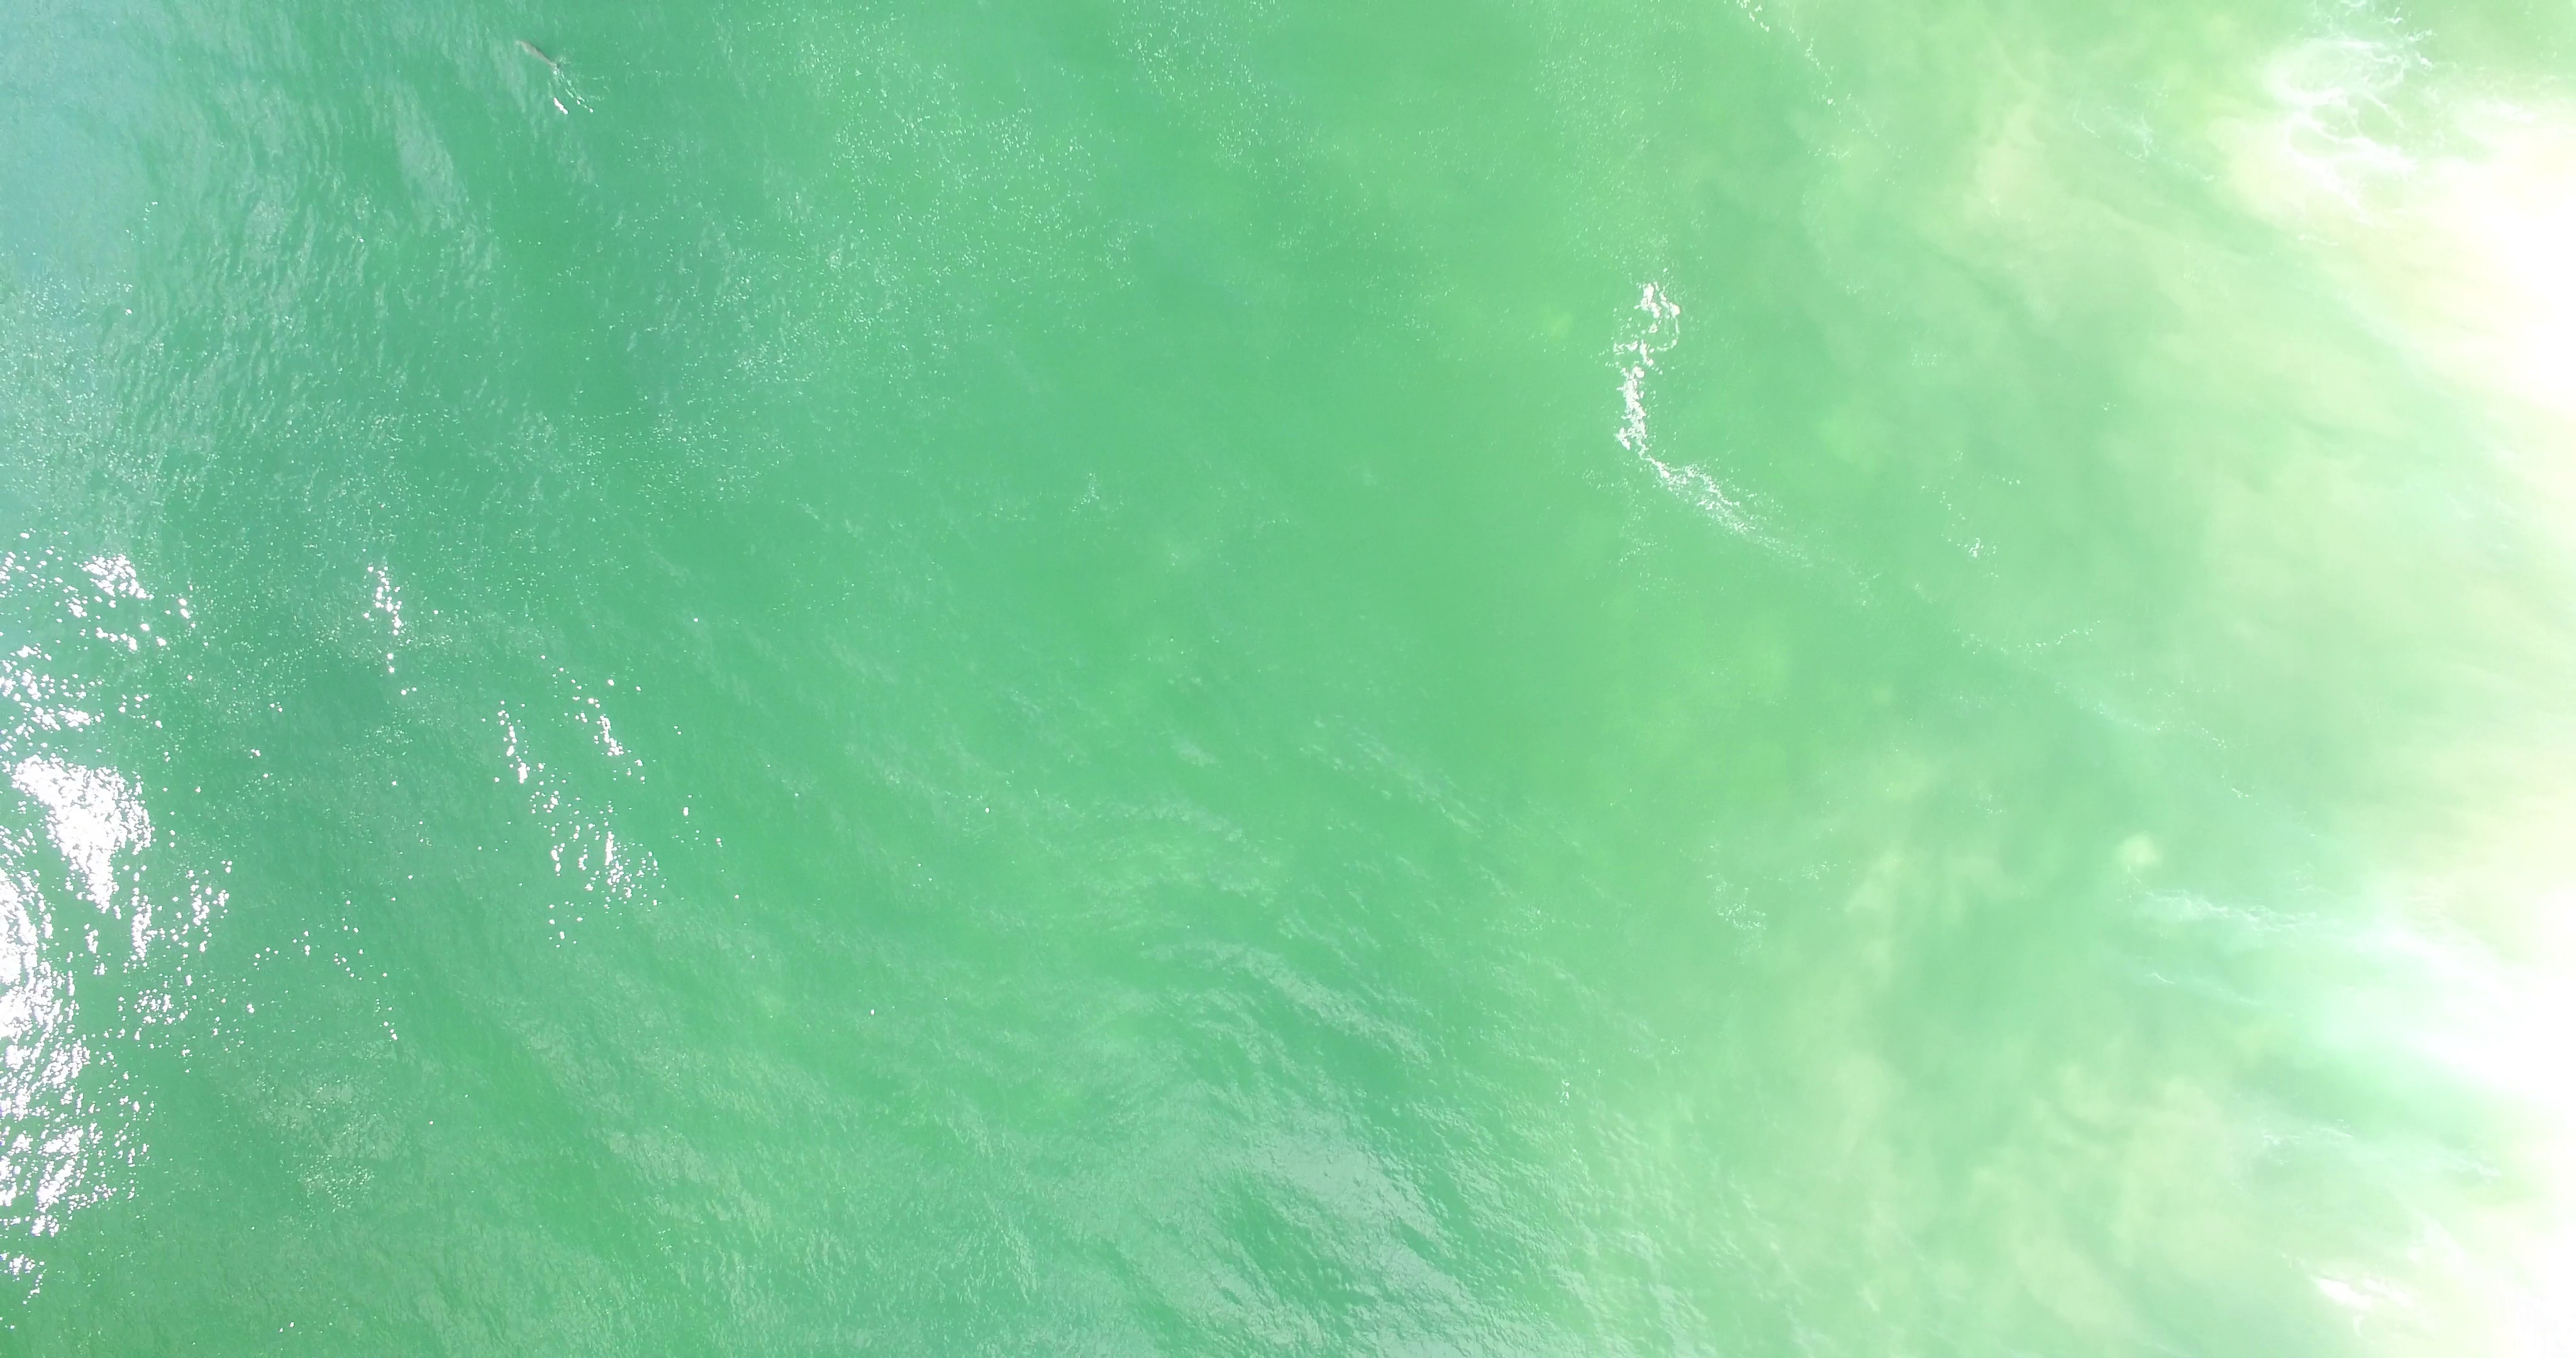dolphin: (516, 36, 562, 75)
